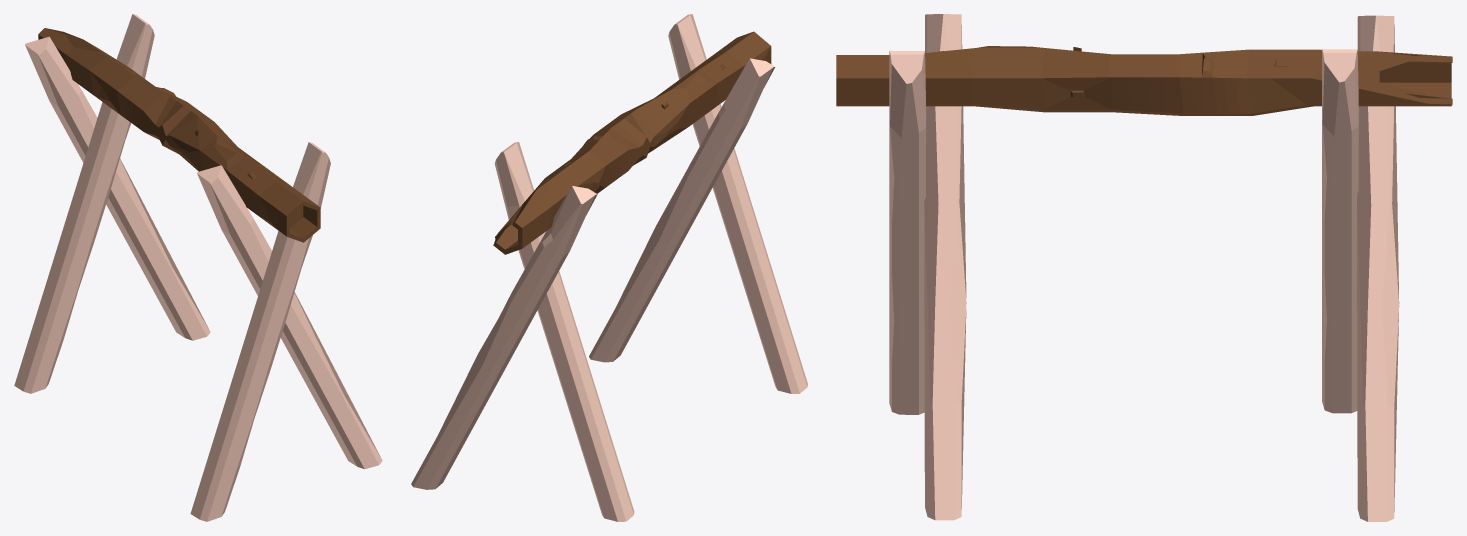
The model's file is deck_1.fbx.
3 views of the same model, side by side, from view 1: azimuth 30°, elevation 25°; view 2: azimuth 150°, elevation 25°; view 3: azimuth 270°, elevation 25° (orthographic). The views are drawn at different scales.
Parts seen in each view (by area): view 1: Cylinder.106, Cube.365, Cube.367, Cube.364, Cube.366; view 2: Cylinder.106, Cube.364, Cube.366, Cube.367, Cube.365; view 3: Cylinder.106, Cube.366, Cube.364, Cube.365, Cube.367.
Part boxes in pixels (bbox=[...]): Cylinder.106: bbox=[38, 28, 320, 242]; Cube.365: bbox=[190, 142, 330, 521]; Cube.367: bbox=[14, 14, 154, 393]; Cube.364: bbox=[197, 165, 382, 469]; Cube.366: bbox=[25, 36, 210, 340]; Cylinder.106: bbox=[493, 31, 771, 254]; Cube.364: bbox=[589, 58, 775, 362]; Cube.366: bbox=[411, 186, 597, 489]; Cube.367: bbox=[494, 142, 634, 521]; Cube.365: bbox=[668, 14, 807, 393]; Cylinder.106: bbox=[836, 46, 1452, 115]; Cube.366: bbox=[1357, 15, 1399, 521]; Cube.364: bbox=[924, 14, 966, 520]; Cube.365: bbox=[889, 50, 925, 414]; Cube.367: bbox=[1322, 49, 1358, 413].
Size of the model in its own units: 417 by 672 by 886.
